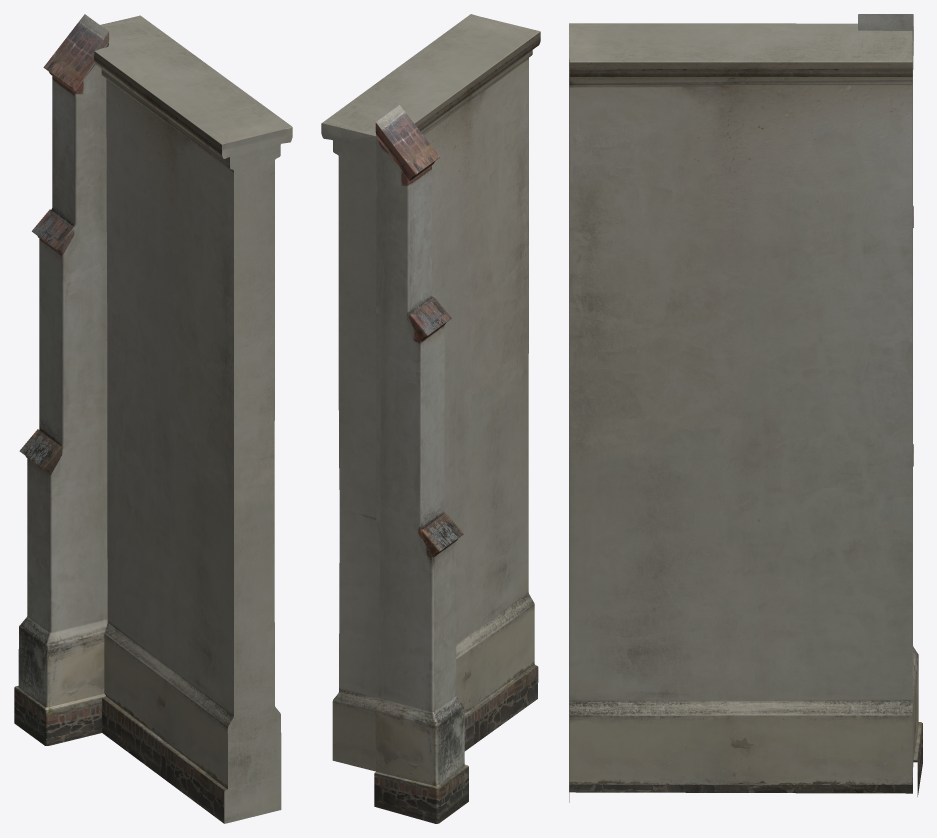
File: sm_Church_01_16.fbx
3 renders of one model, left to right at view 1: azimuth 30°, elevation 25°; view 2: azimuth 150°, elevation 25°; view 3: azimuth 270°, elevation 25°, orthographic. The views are drawn at different scales.
Visible parts, largest first — view 1: sm_Church_01_16_LOD0; view 2: sm_Church_01_16_LOD0; view 3: sm_Church_01_16_LOD0.
Boxes of the visible parts, <box> form: sm_Church_01_16_LOD0: <box>14,14,292,823</box>; sm_Church_01_16_LOD0: <box>321,14,540,823</box>; sm_Church_01_16_LOD0: <box>569,14,922,802</box>.
Size of the model in its own units: 150 by 330 by 809.
